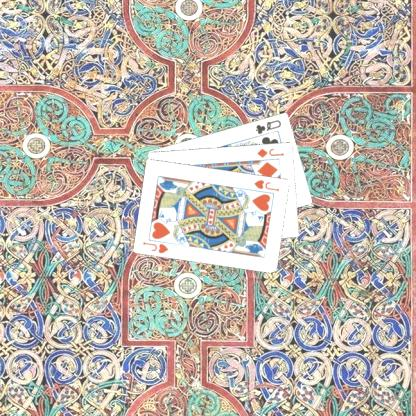JD: (254, 145, 285, 159)
JH: (251, 176, 281, 192), (140, 239, 170, 254)
QC: (252, 116, 282, 136)
